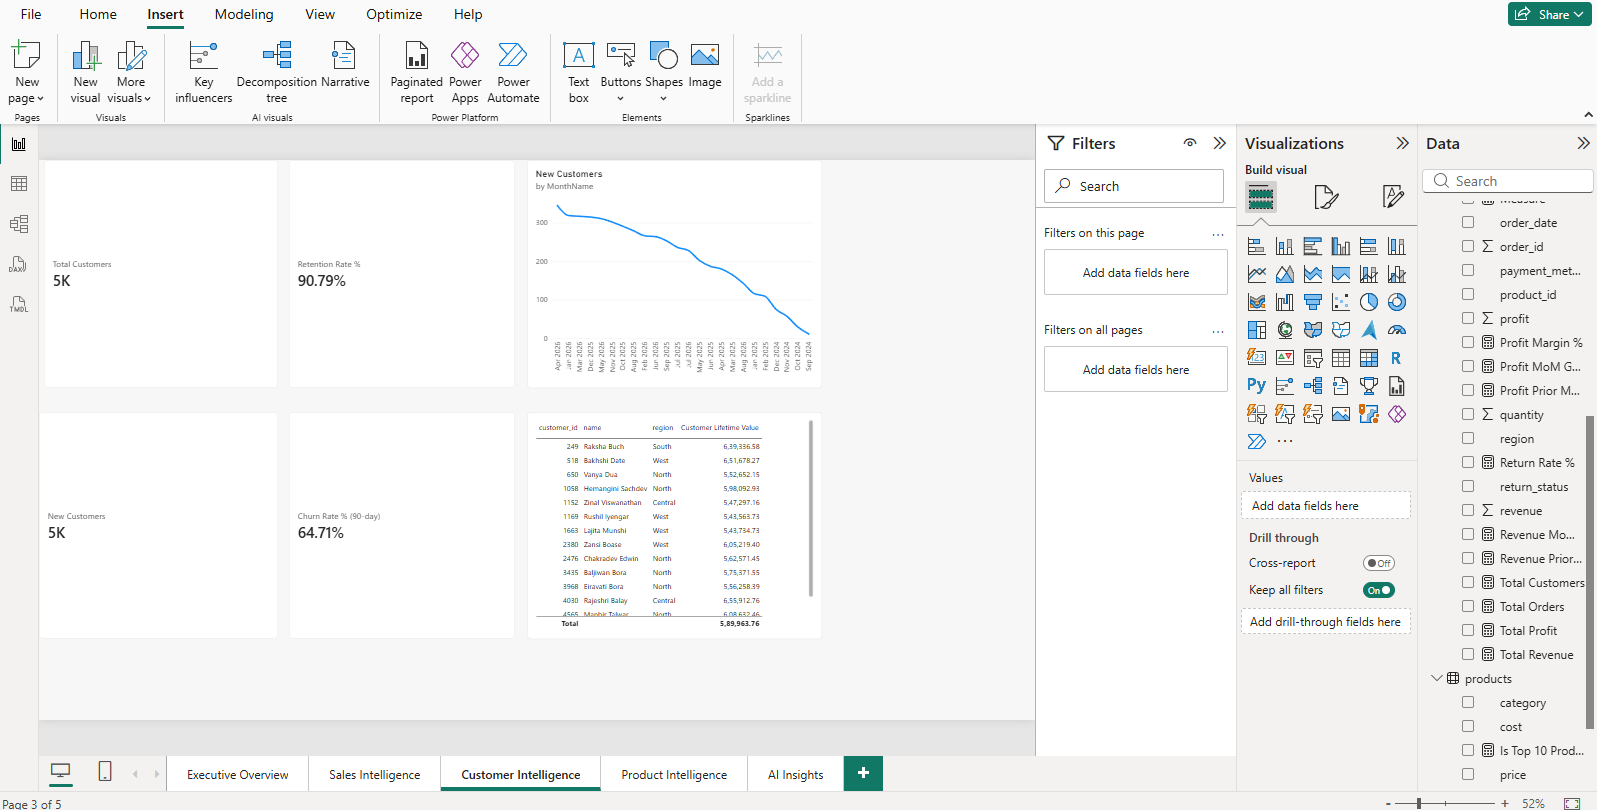

Layout of this report page (visuals, bound fields, positions):
{"tool":"powerbi","page":{"name":"Customer Intelligence","canvas":[1920,1080],"ordinal":2},"visuals":[{"type":"cardVisual","fields":{"Data":["orders.Total Customers"]},"box":[10,0,280,280],"z":0},{"type":"cardVisual","fields":{"Data":["customers.New Customers"]},"box":[10,290,280,280],"z":1},{"type":"cardVisual","fields":{"Data":["customers.Retention Rate %"]},"box":[10,580,280,280],"z":2},{"type":"cardVisual","fields":{"Data":["customers.Churn Rate % (90-day)"]},"box":[10,870,280,210],"z":3},{"type":"lineChart","fields":{"Category":["DateTable.MonthName"],"Y":["customers.New Customers"]},"box":[300,0,280,280],"z":4},{"type":"tableEx","fields":{"Values":["customers.customer_id","customers.name","customers.region","customers.Customer Lifetime Value"]},"box":[300,290,280,280],"z":5}]}

Visuals, with their boxes on the page's 1920x1080 design canvas (x1, y1, x2, y2). These are canvas units, not pixel positions in the 1597x810 screenshot, which may show the page scaled, cropped or inside an application window:
cardVisual - orders.Total Customers: detection(10, 0, 290, 280)
cardVisual - customers.New Customers: detection(10, 290, 290, 570)
cardVisual - customers.Retention Rate %: detection(10, 580, 290, 860)
cardVisual - customers.Churn Rate % (90-day): detection(10, 870, 290, 1080)
lineChart - DateTable.MonthName x customers.New Customers: detection(300, 0, 580, 280)
tableEx - customers.customer_id x customers.name: detection(300, 290, 580, 570)
